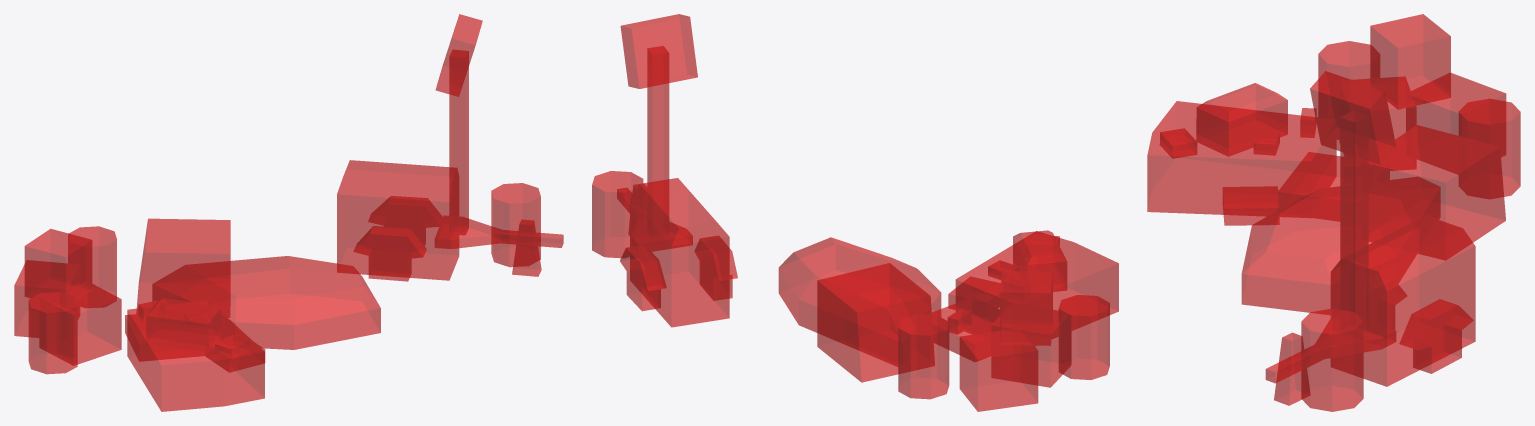
The model's file is SM_Obstacle_11_Collision.fbx.
3 renders of one model, left to right at view 1: azimuth 30°, elevation 25°; view 2: azimuth 150°, elevation 25°; view 3: azimuth 270°, elevation 25°, orthographic. The views are drawn at different scales.
Visible parts, largest first — view 1: Obstacle_11_Collision; view 2: Obstacle_11_Collision; view 3: Obstacle_11_Collision.
Part boxes in pixels (<box>): Obstacle_11_Collision: <box>14,14,563,411</box>; Obstacle_11_Collision: <box>592,14,1118,411</box>; Obstacle_11_Collision: <box>1147,14,1520,411</box>.
Bounding box in the file's own units: 902 × 418 × 476.
